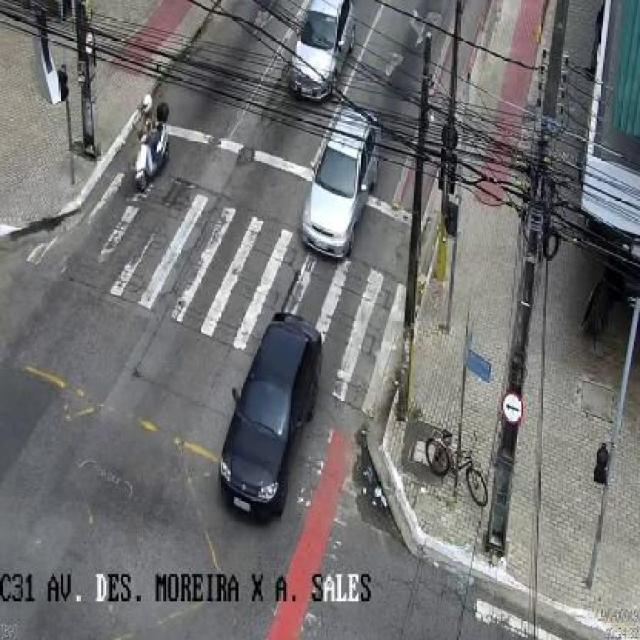Car: (189, 315, 320, 547), (280, 108, 390, 263), (250, 0, 366, 106)
Cycle: (116, 87, 186, 186)
